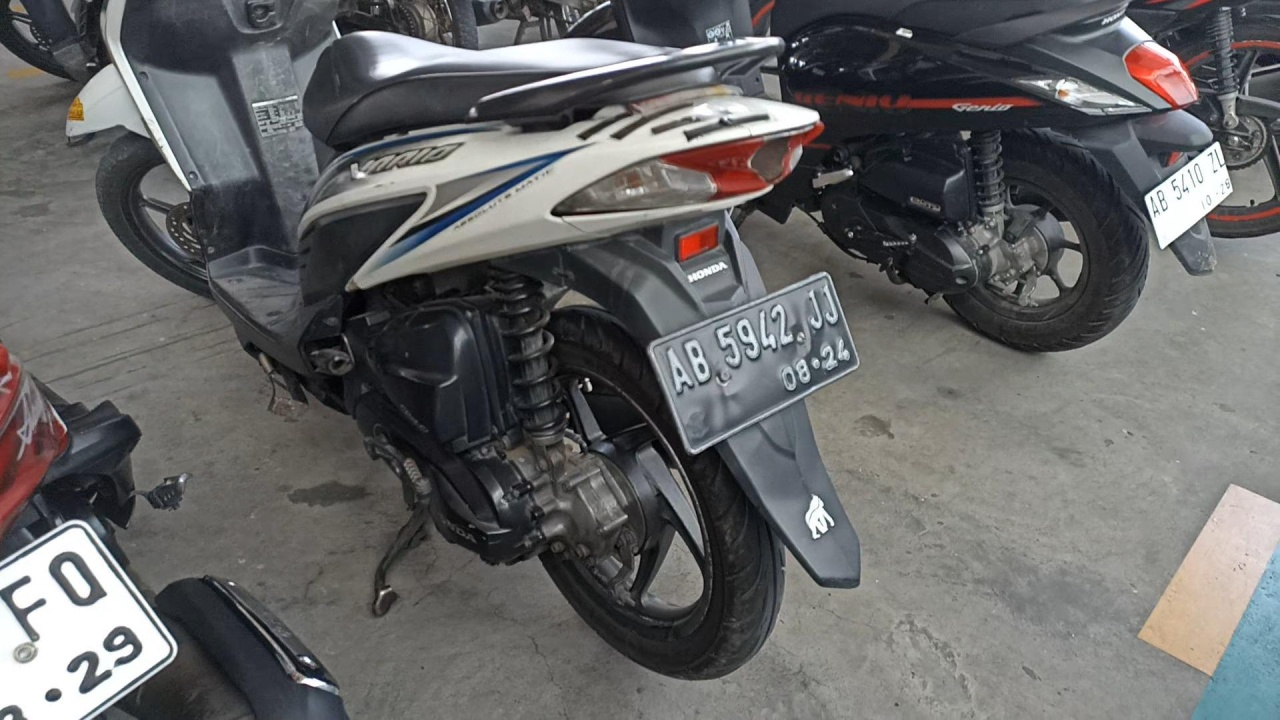plate: (648, 271, 862, 455), (1144, 142, 1234, 250)
